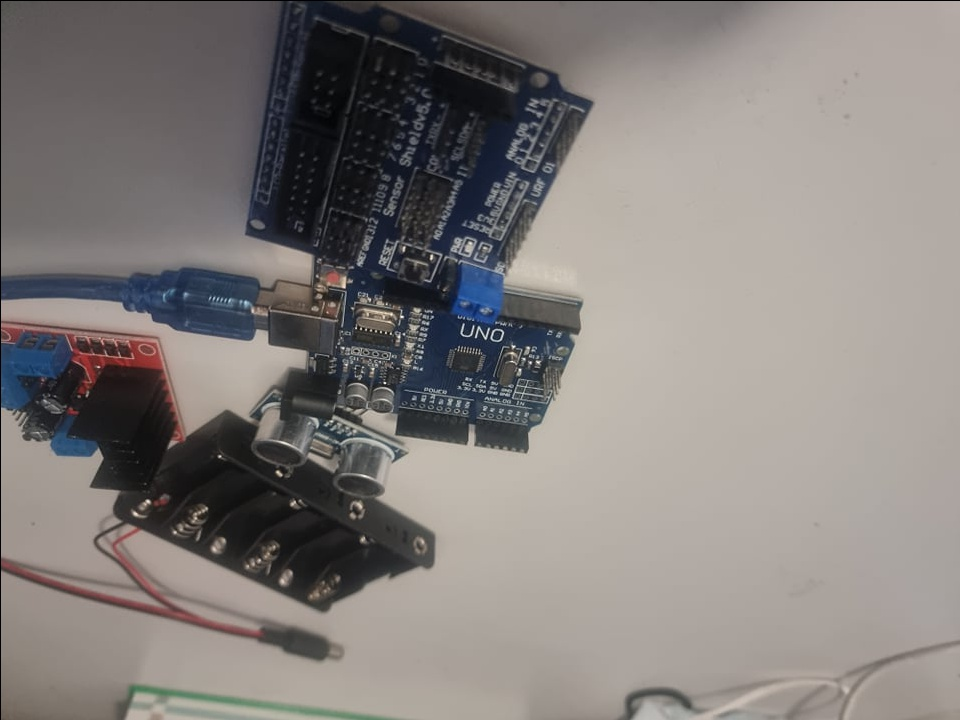5V EXPANSION: (242, 0, 590, 320)
BATTERY BOX: (132, 410, 435, 620)
MOTOR: (0, 311, 175, 496)
SENSOR: (247, 382, 393, 501)
UNO R3: (278, 262, 574, 444)
